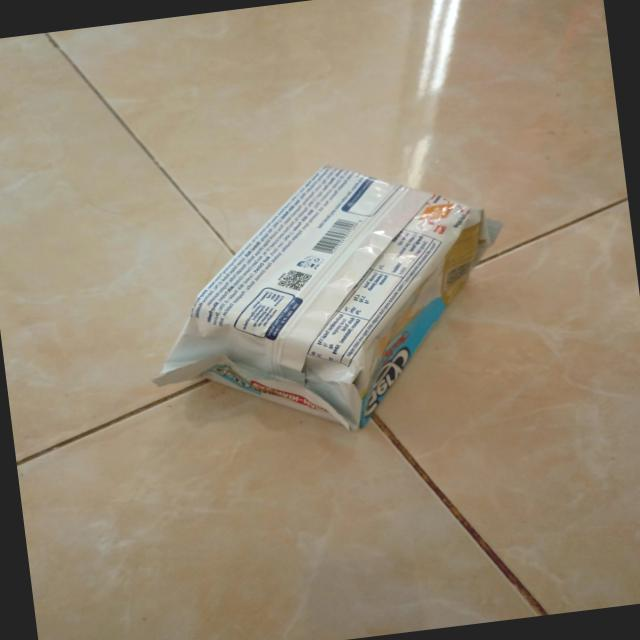gery-salut-coconut: (128, 142, 524, 456)
